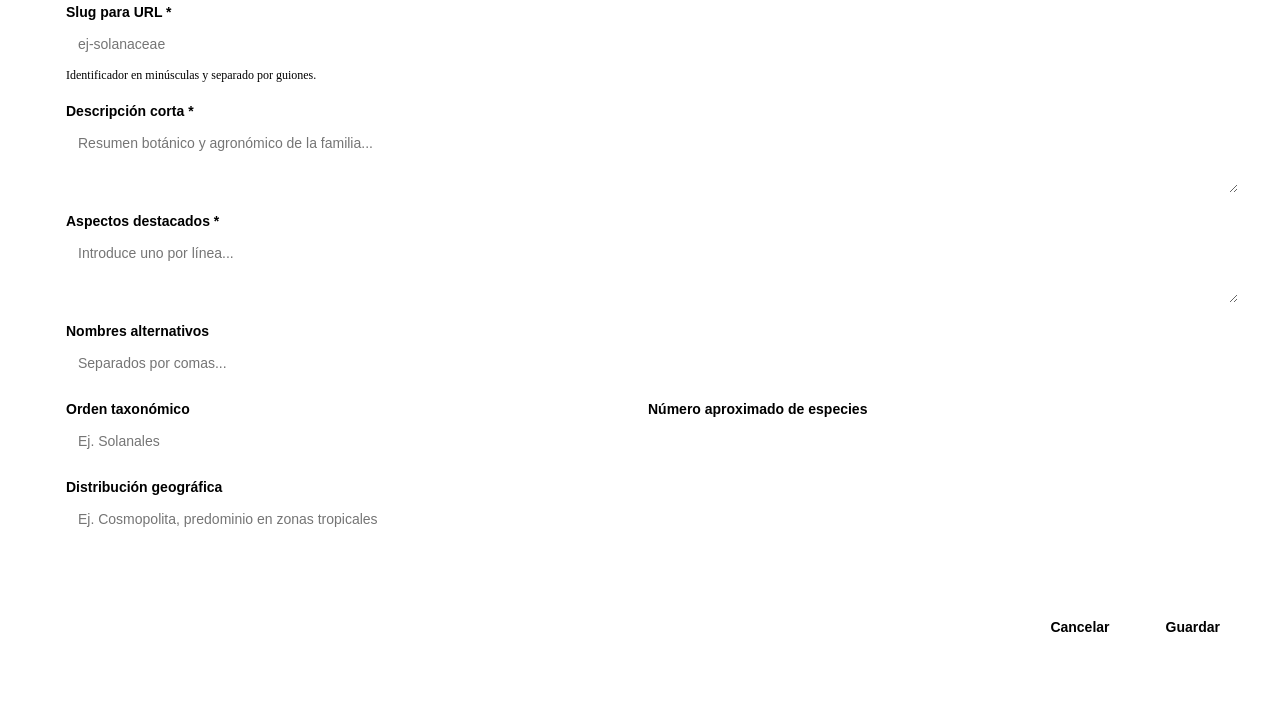
Test case: FamilyCreatePage › displays validation summary banner when submitted with missing required fields
(page scrolled)
Click the button "Guardar".
click(1193, 627)  # box [1146,609,1240,645]
(page scrolled)
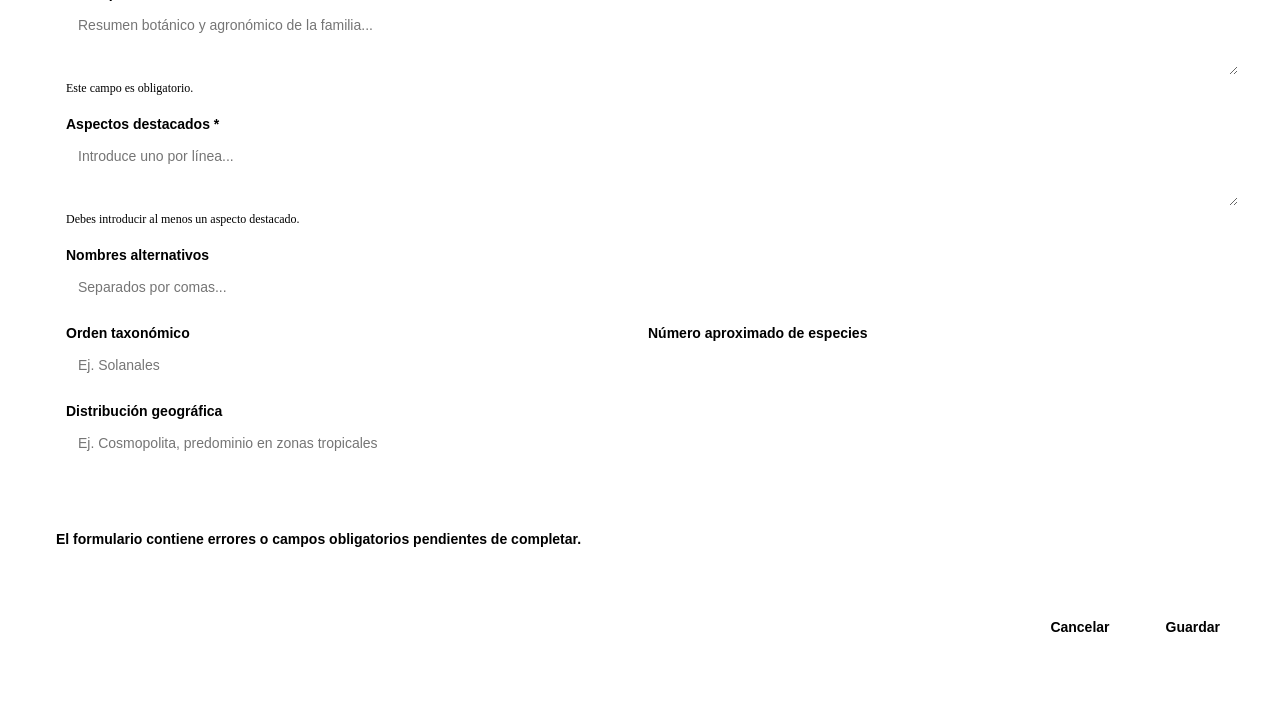
Now the text "El formulario contiene errores o campos obligatorios pendientes de completar." is shown, box [56,531,581,547]
